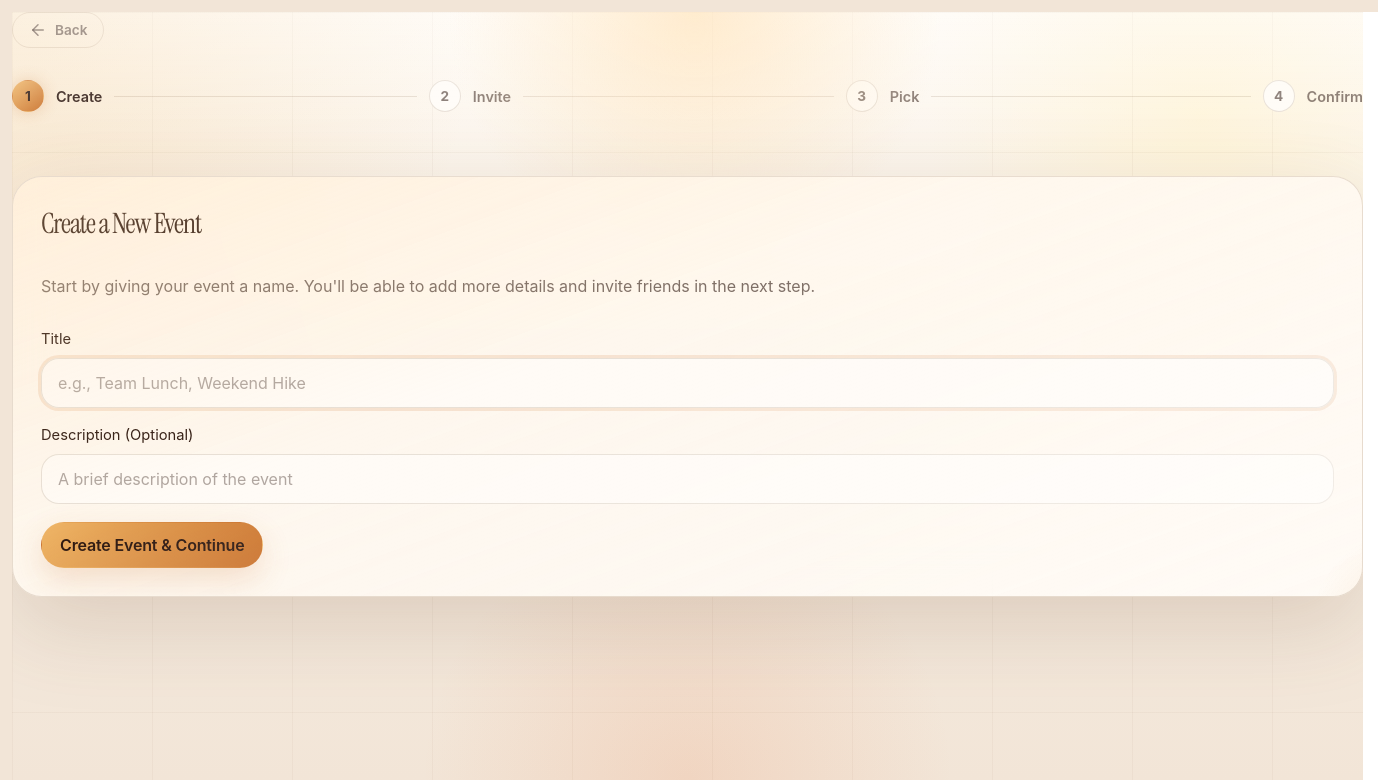
Test case: EventCreationForm › displays generic error on server failure
Type "Title" into the field labelled "Title" at (688, 383), box [41,358,1334,408]
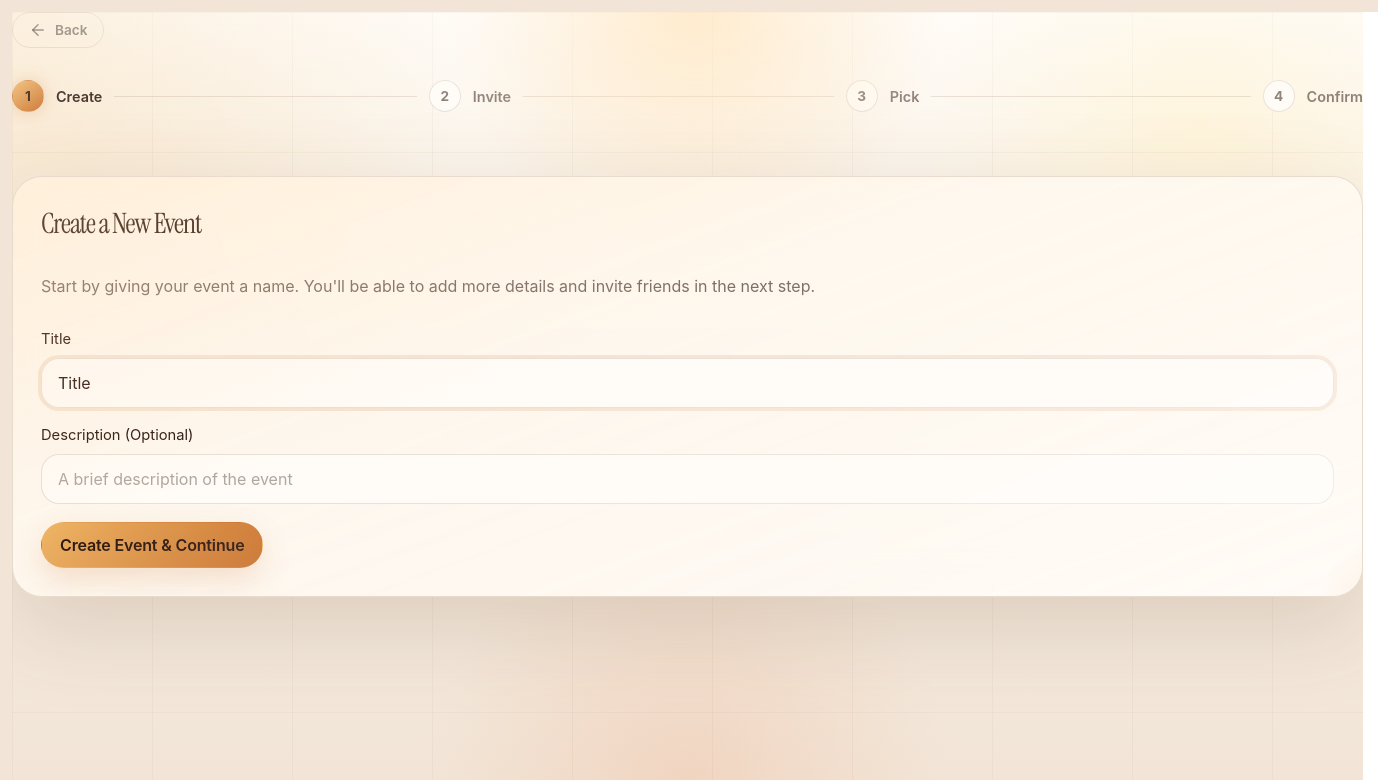
Type "Desc" into the field labelled "Description (Optional)" at (688, 479), box [41,454,1334,504]
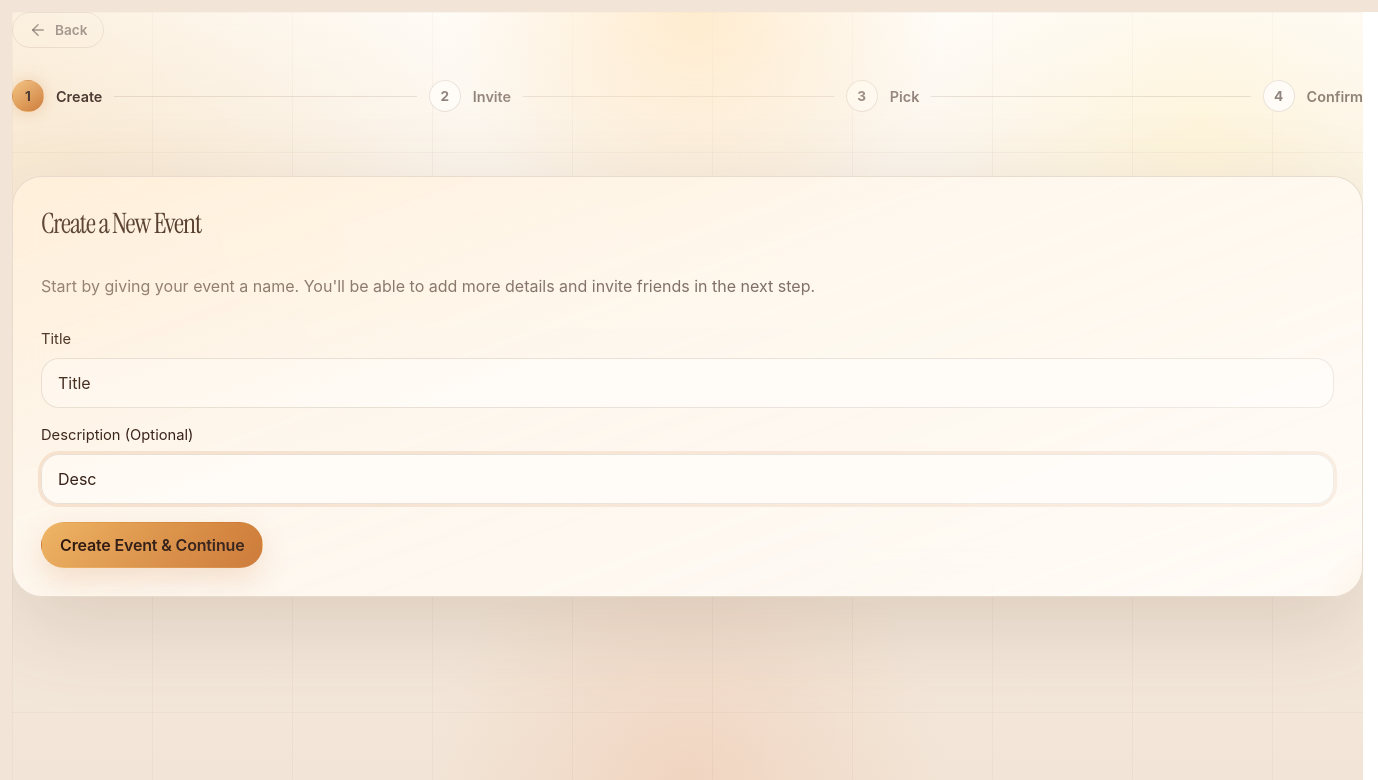
Click the button "Create Event & Continue" at (152, 545), box [41,522,264,568]
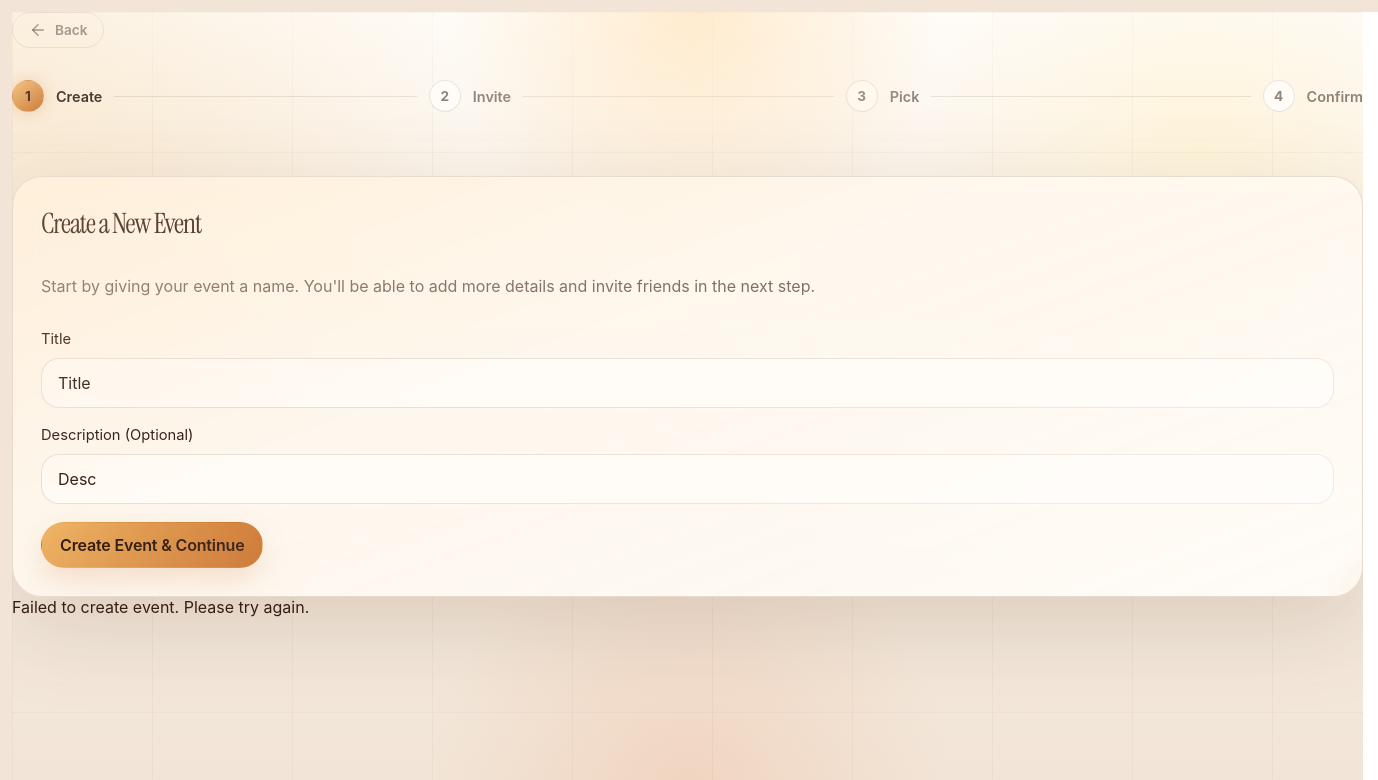
Result: the text "Failed to create event. Please try again." is shown at [12,597,309,617]
